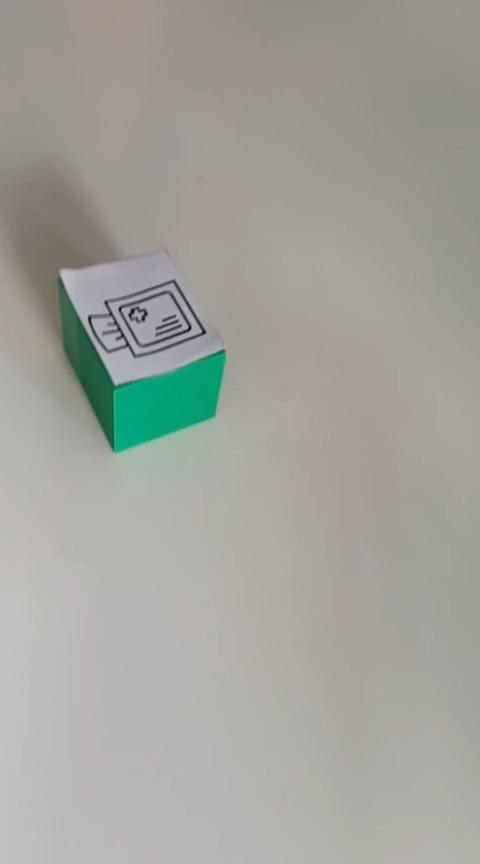Gauze: (55, 245, 227, 453)
